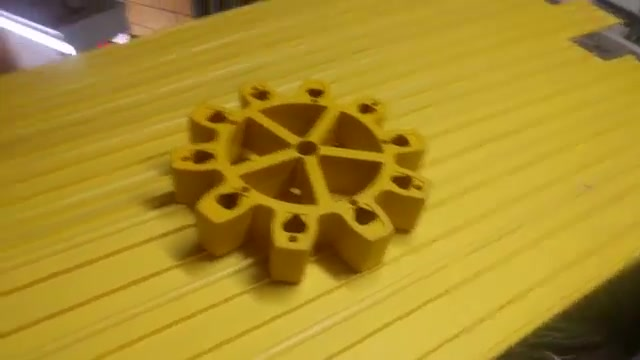gear: (160, 69, 435, 298)
